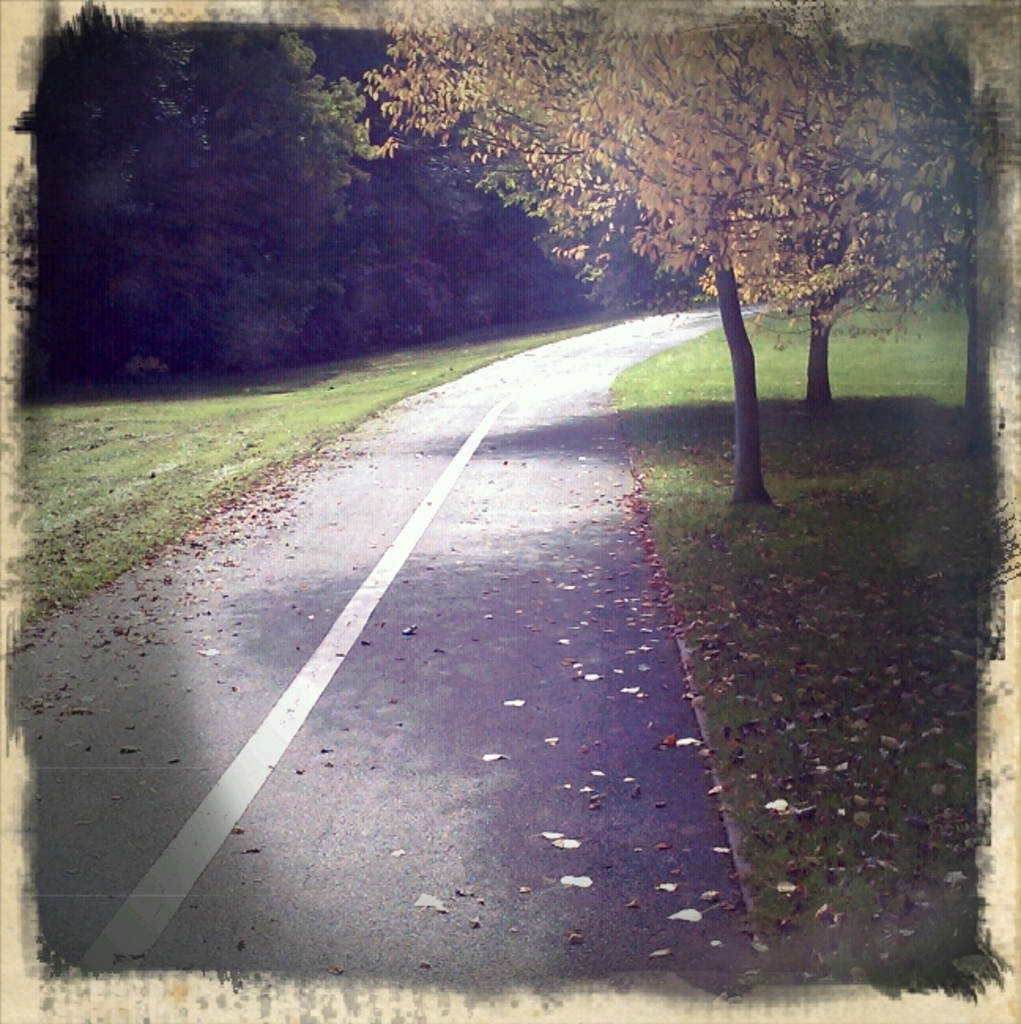Tree: (18, 7, 981, 508)
